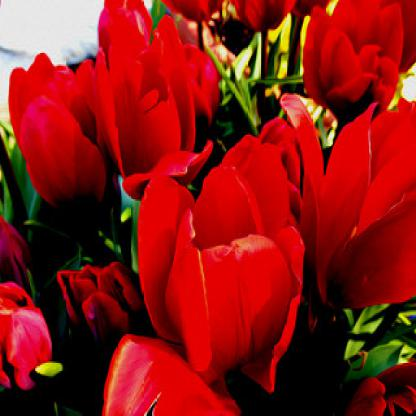TULIP: (19, 28, 409, 401)
